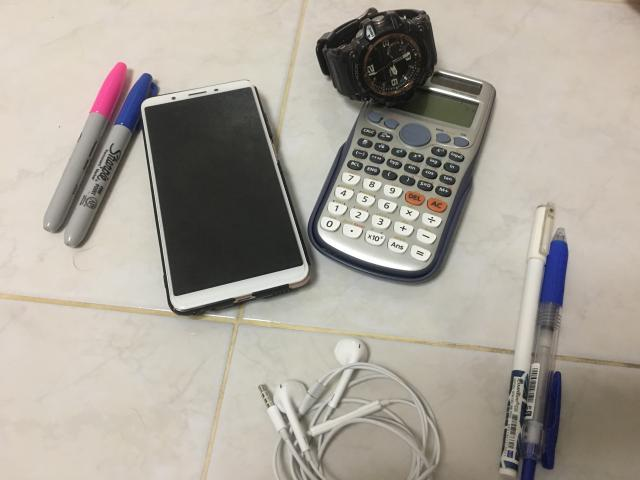Mobile phone: (140, 80, 308, 315)
Pen: (500, 202, 568, 479), (64, 74, 156, 248), (44, 63, 126, 232)
Watch: (316, 8, 436, 106)
wire: (259, 338, 441, 480)
